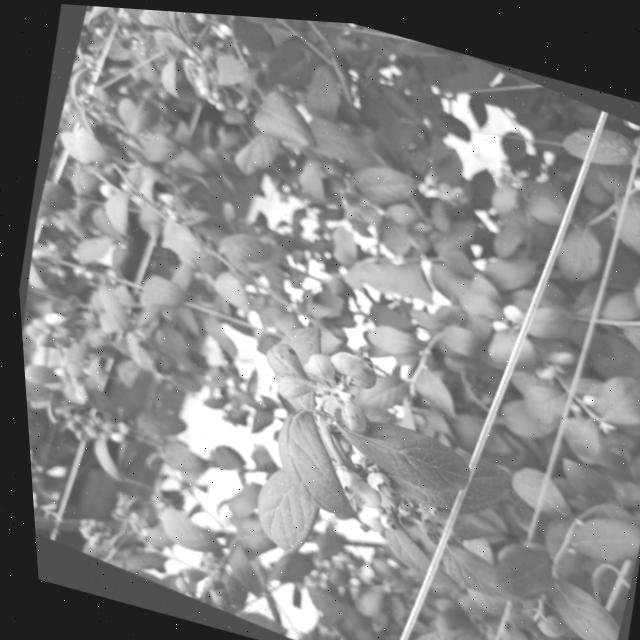RipeBlueBerry: (311, 342, 384, 396), (518, 607, 559, 640)
